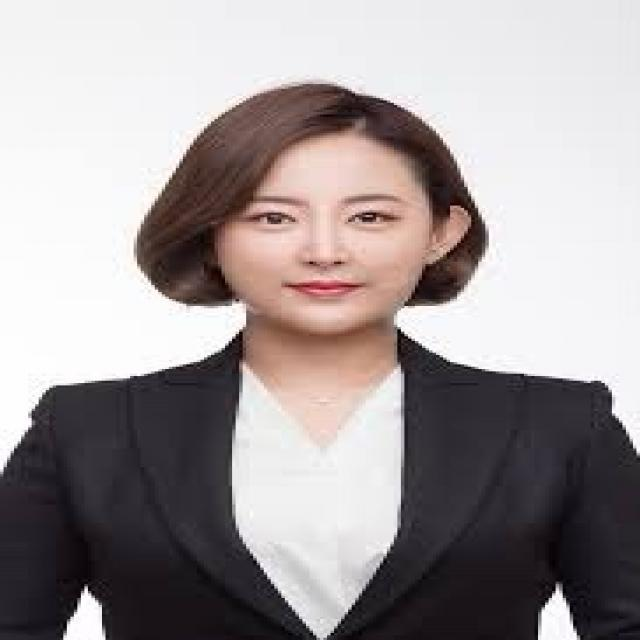Nonhelmet: (166, 69, 462, 342)
